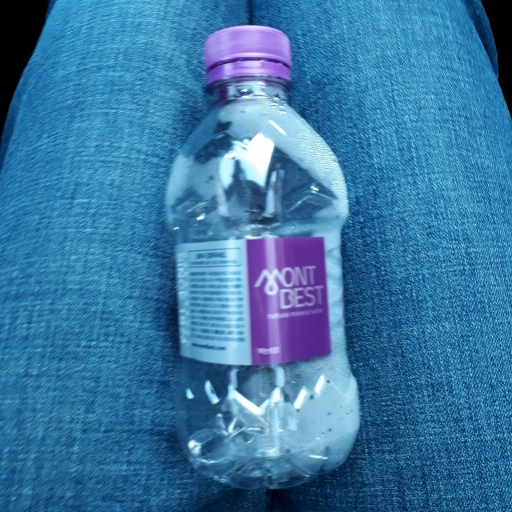Plastic_0: (160, 25, 362, 483)
